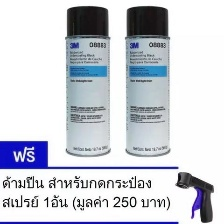aerosol_cans: (122, 2, 175, 159), (61, 3, 113, 160)
